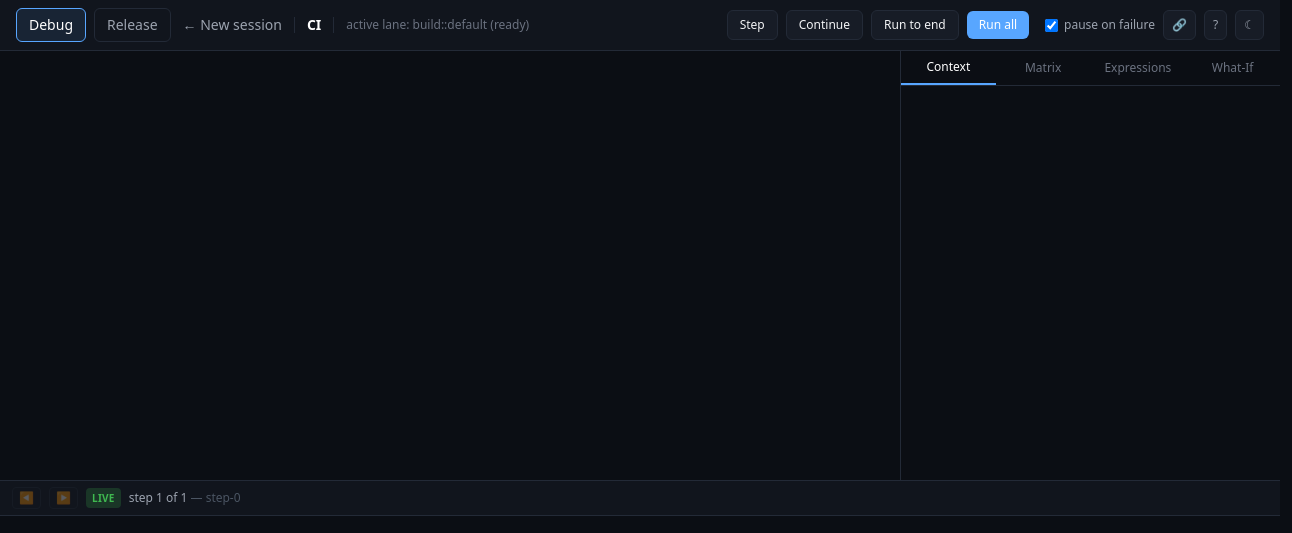
it: DebuggerApp › shows an error instead of a link when the workflow source isn't cached
expect the text "CI" is shown: met, box [307,15,321,35]
Click the button with test id "share-toggle" at (1180, 25), box [1163,10,1196,40]
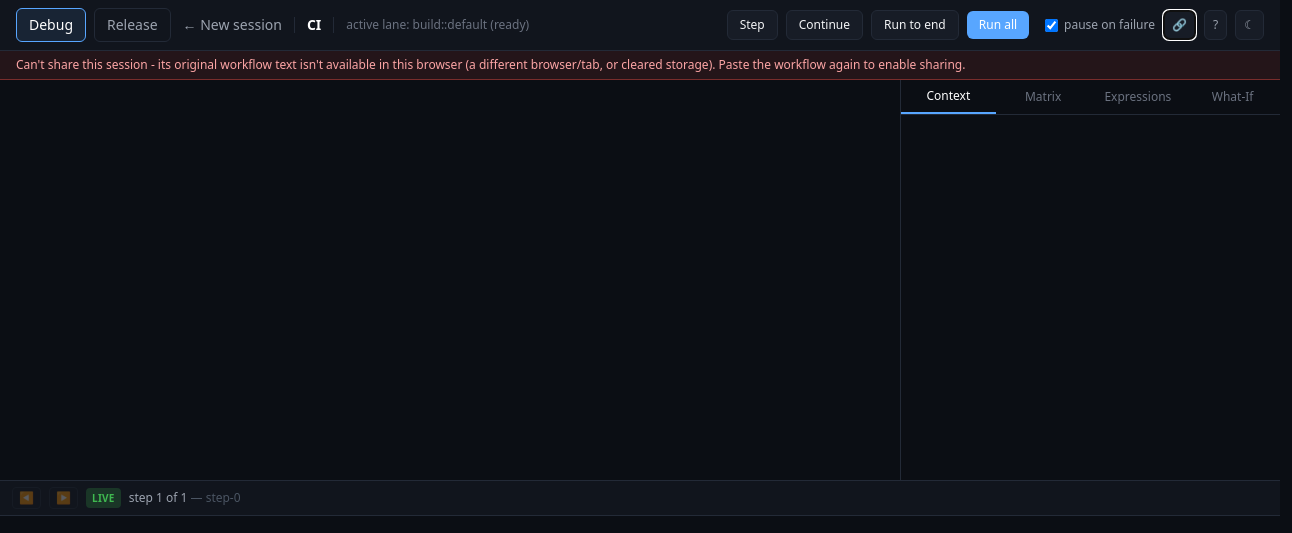
expect the text "isn't available in this browser" is shown: met, box [16,56,966,73]
